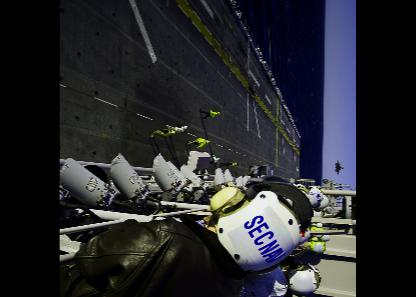F22: (335, 158, 344, 173)
